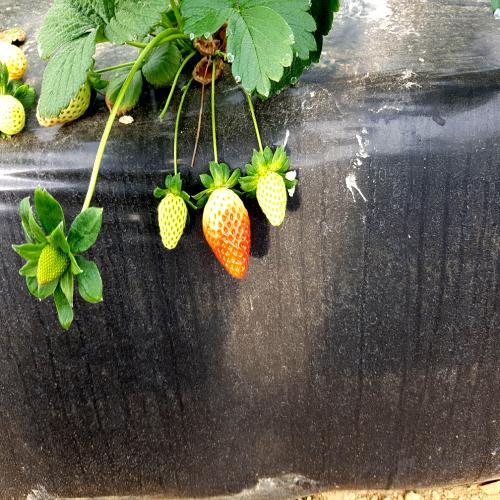partially-ripe: (202, 186, 257, 286)
